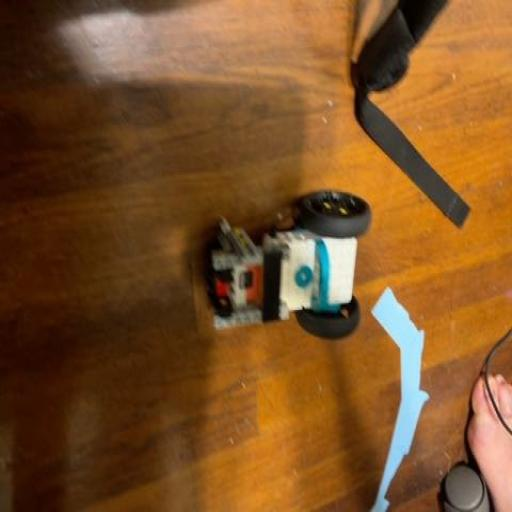Opponent: (202, 192, 375, 345)
